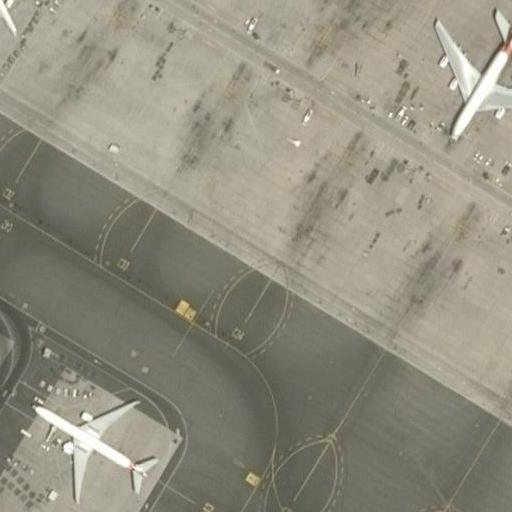Aircraft: (30, 389, 157, 505), (426, 0, 512, 142), (0, 0, 21, 54)
